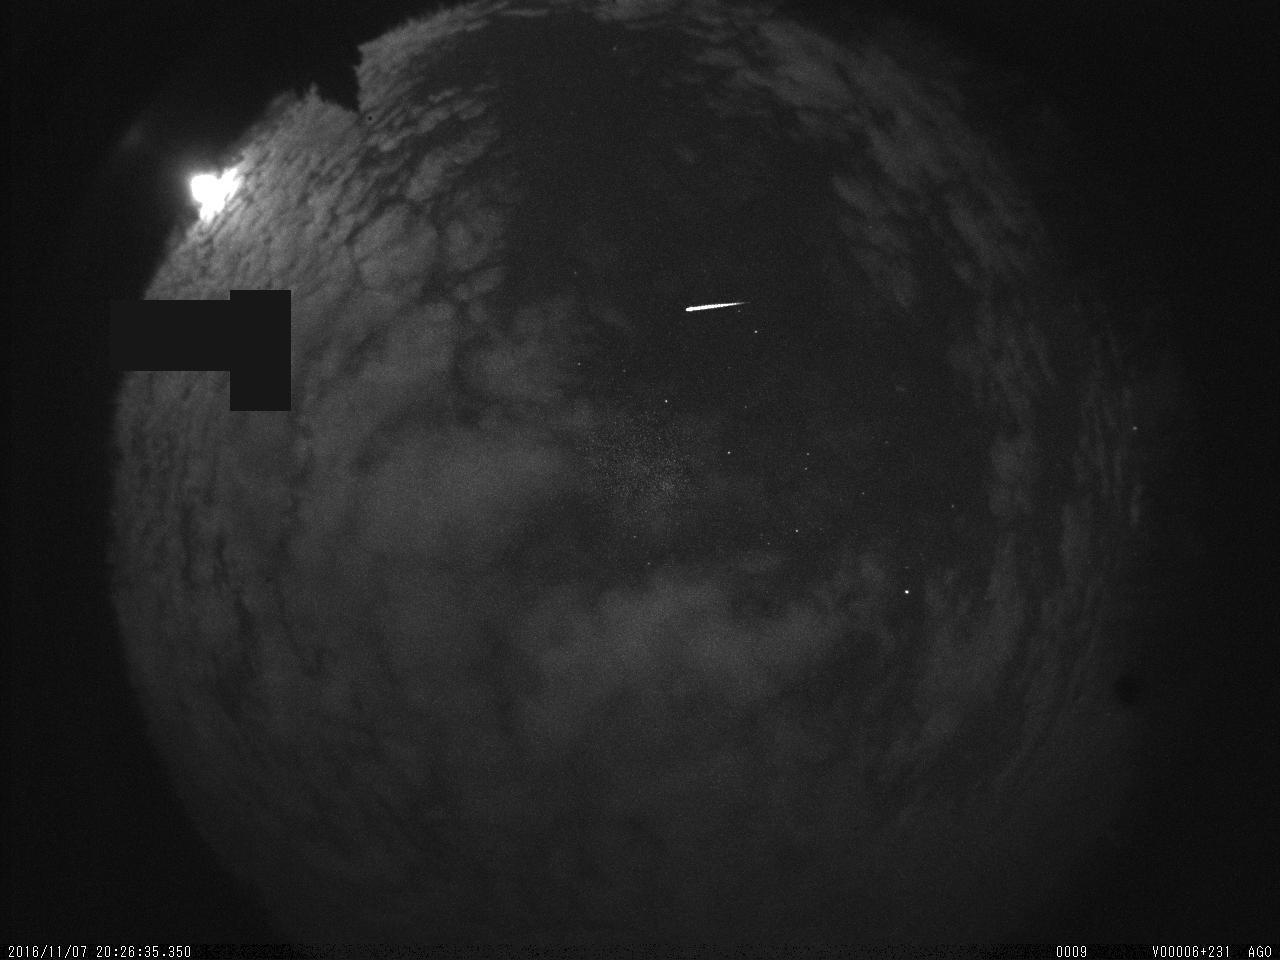meteor: (657, 279, 765, 327)
